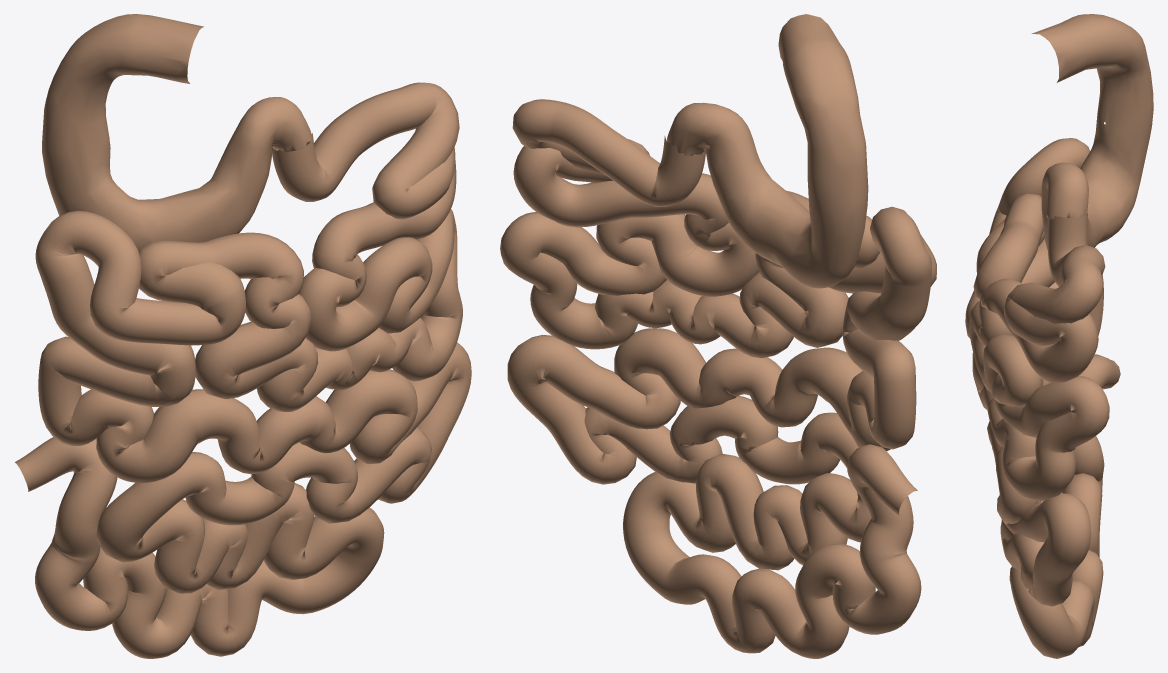
File: small-intestine.glb
3 renders of one model, left to right at view 1: azimuth 30°, elevation 25°; view 2: azimuth 150°, elevation 25°; view 3: azimuth 270°, elevation 25°, orthographic. The views are drawn at different scales.
Parts seen in each view (by area): view 1: real-small-intestine-jejunum, real-small-intestine-duodenum; view 2: real-small-intestine-jejunum, real-small-intestine-duodenum; view 3: real-small-intestine-jejunum, real-small-intestine-duodenum.
Boxes of the visible parts, x1,y1,x2,y2 form: real-small-intestine-jejunum: (15, 82, 471, 658); real-small-intestine-duodenum: (42, 14, 311, 251); real-small-intestine-jejunum: (500, 99, 936, 658); real-small-intestine-duodenum: (667, 14, 868, 288); real-small-intestine-jejunum: (965, 138, 1120, 658); real-small-intestine-duodenum: (1031, 14, 1153, 250).
Size of the model in its own units: 0.183 by 0.2622 by 0.0752.
